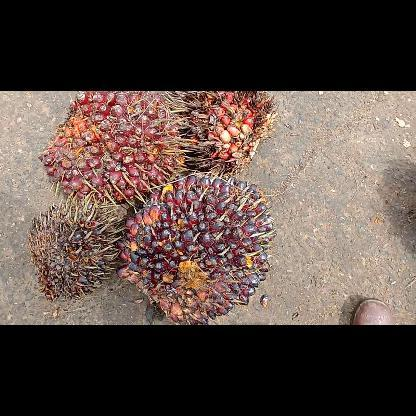Kurang masak: (116, 172, 278, 324)
TBS abnormal: (27, 193, 125, 299)
TBS masak: (37, 92, 181, 204)
Terlalu masak: (166, 92, 278, 180)
